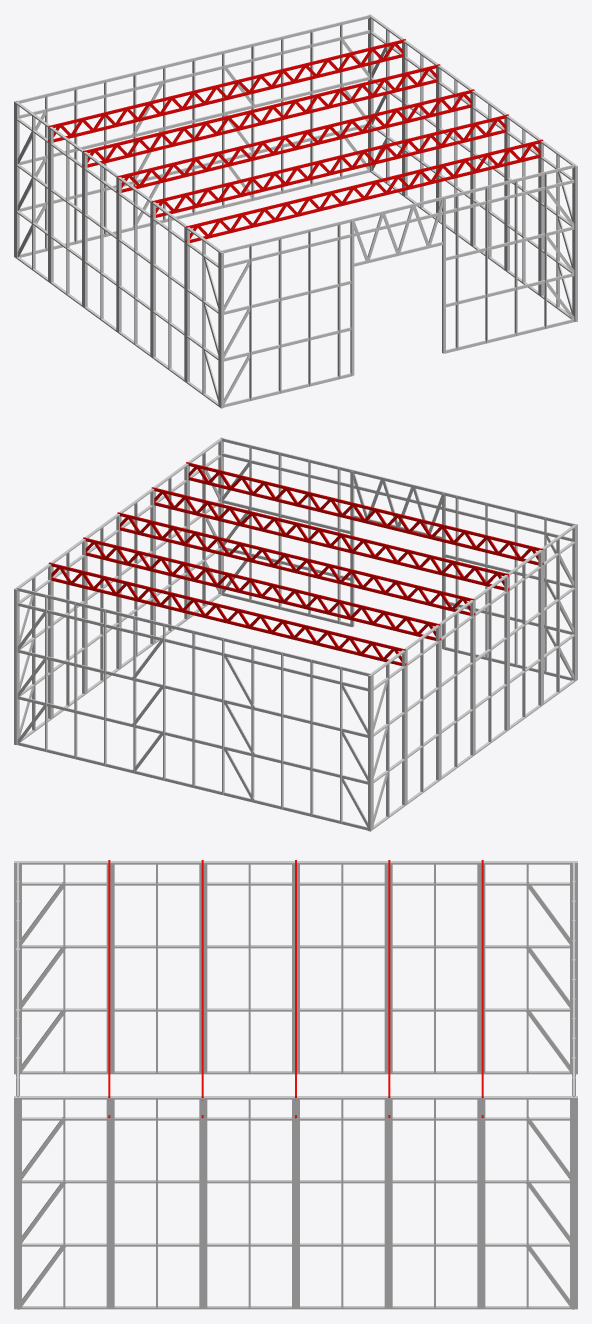
The picture shows the model from 3 angles, top to bottom: view 1: azimuth 30°, elevation 25°; view 2: azimuth 150°, elevation 25°; view 3: azimuth 270°, elevation 25°; orthographic projection. The views are drawn at different scales.
Visible parts, largest first — view 1: building_frame; view 2: building_frame; view 3: building_frame.
Part boxes in pixels (x1,y1,x2,y2): building_frame: (14,14,577,408); building_frame: (14,437,577,831); building_frame: (14,860,577,1309).
Bounding box in the file's own units: 12.05 × 5.04 × 12.06.
